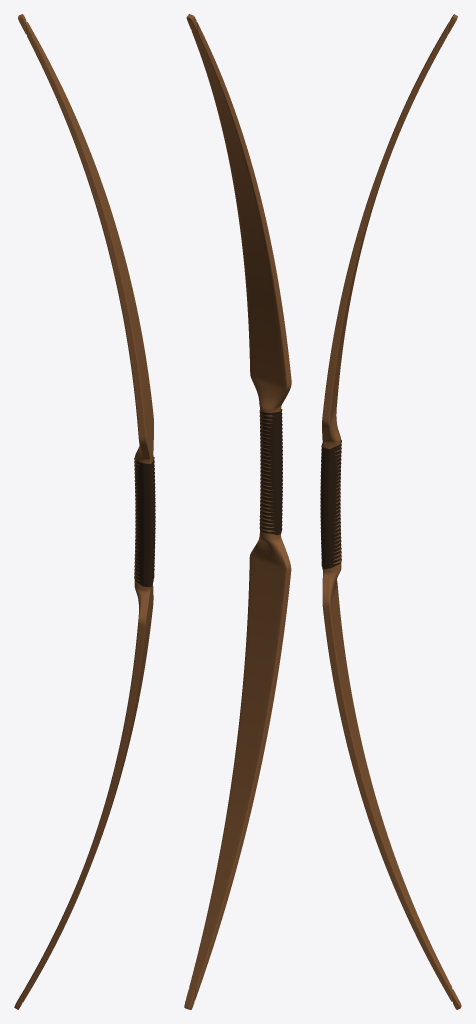
The model's file is longbow.glb.
The picture shows the model from 3 angles, left to right: view 1: azimuth 90°, elevation 25°; view 2: azimuth 150°, elevation 25°; view 3: azimuth 270°, elevation 25°; orthographic projection.
Parts seen in each view (by area): view 1: Cube.003, binding; view 2: Cube.003, binding; view 3: Cube.003, binding.
Part boxes in pixels (x1,y1,x2,y2): Cube.003: (14,14,154,1009); binding: (134,457,155,587); Cube.003: (184,14,291,1009); binding: (259,409,282,534); Cube.003: (322,14,461,1009); binding: (320,439,341,569).
Size of the model in its own units: 0.0766 by 1.71 by 0.221.
